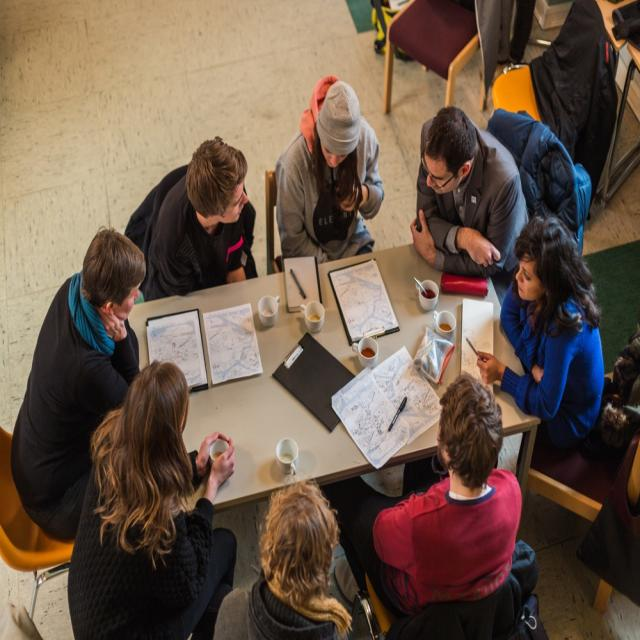body: (63, 354, 239, 639), (330, 368, 524, 626), (9, 224, 148, 544), (475, 216, 606, 455), (408, 104, 530, 307), (210, 476, 356, 639), (274, 76, 385, 266), (142, 134, 260, 302)
